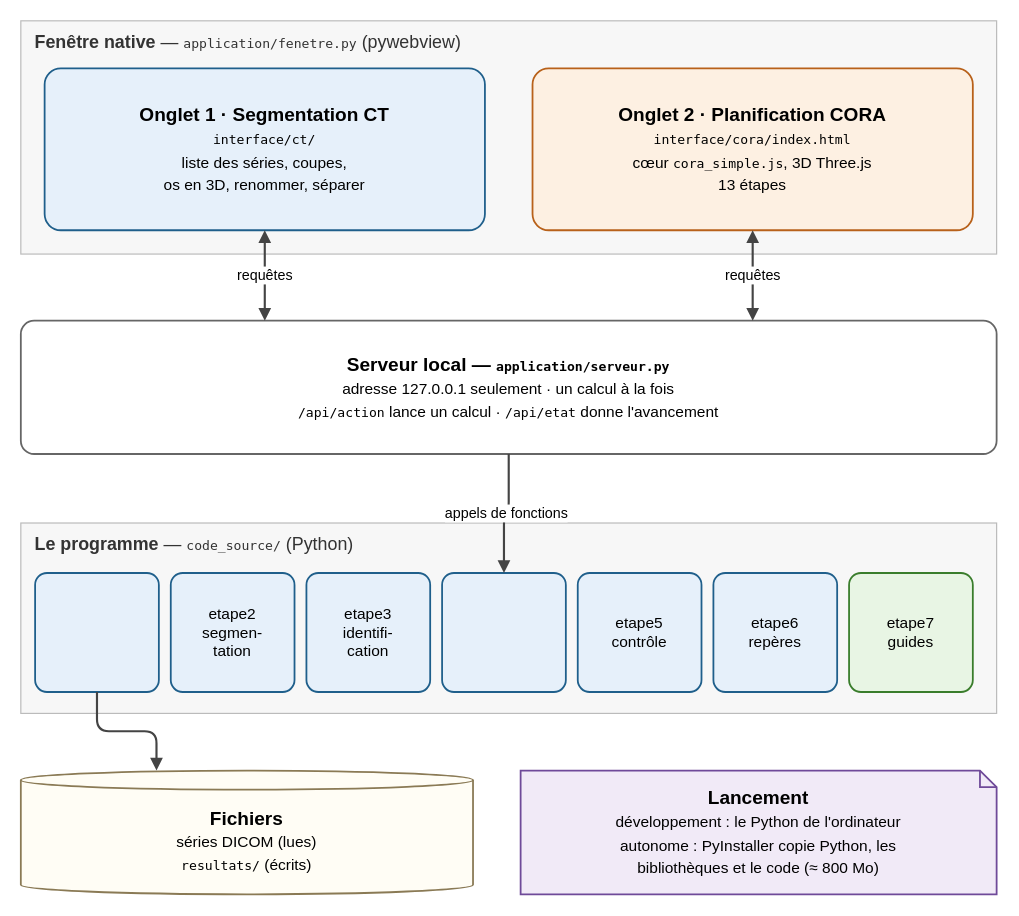
Some shapes in this 1019 by 916 pixel diagram are drawn without their labels. Here are the shapes that lost their labels. From the top down, the box of each, then its label:
(34, 572, 159, 692): etape1 lecture
(441, 572, 566, 692): etape4 maillage
